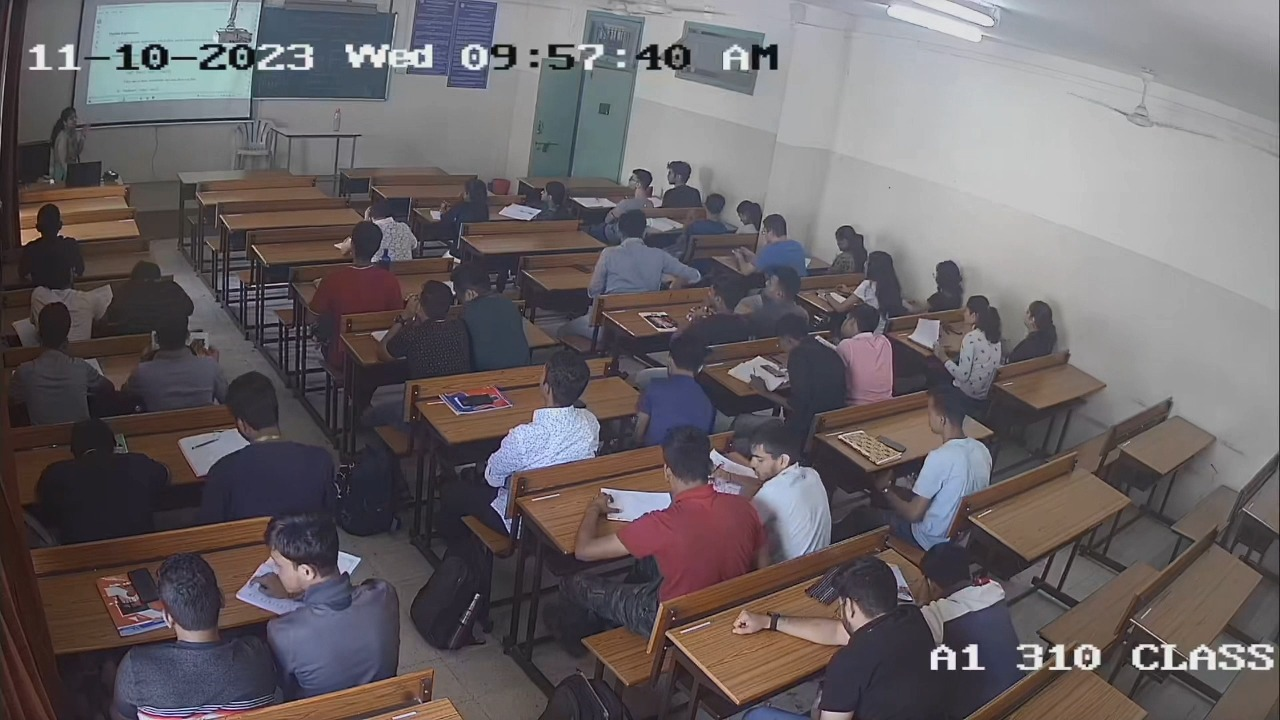cell-phones: (126, 565, 163, 604), (875, 434, 907, 454), (457, 392, 494, 407), (760, 364, 786, 378)
person: (107, 547, 279, 720), (894, 383, 994, 536), (487, 350, 602, 476), (763, 312, 849, 424)
